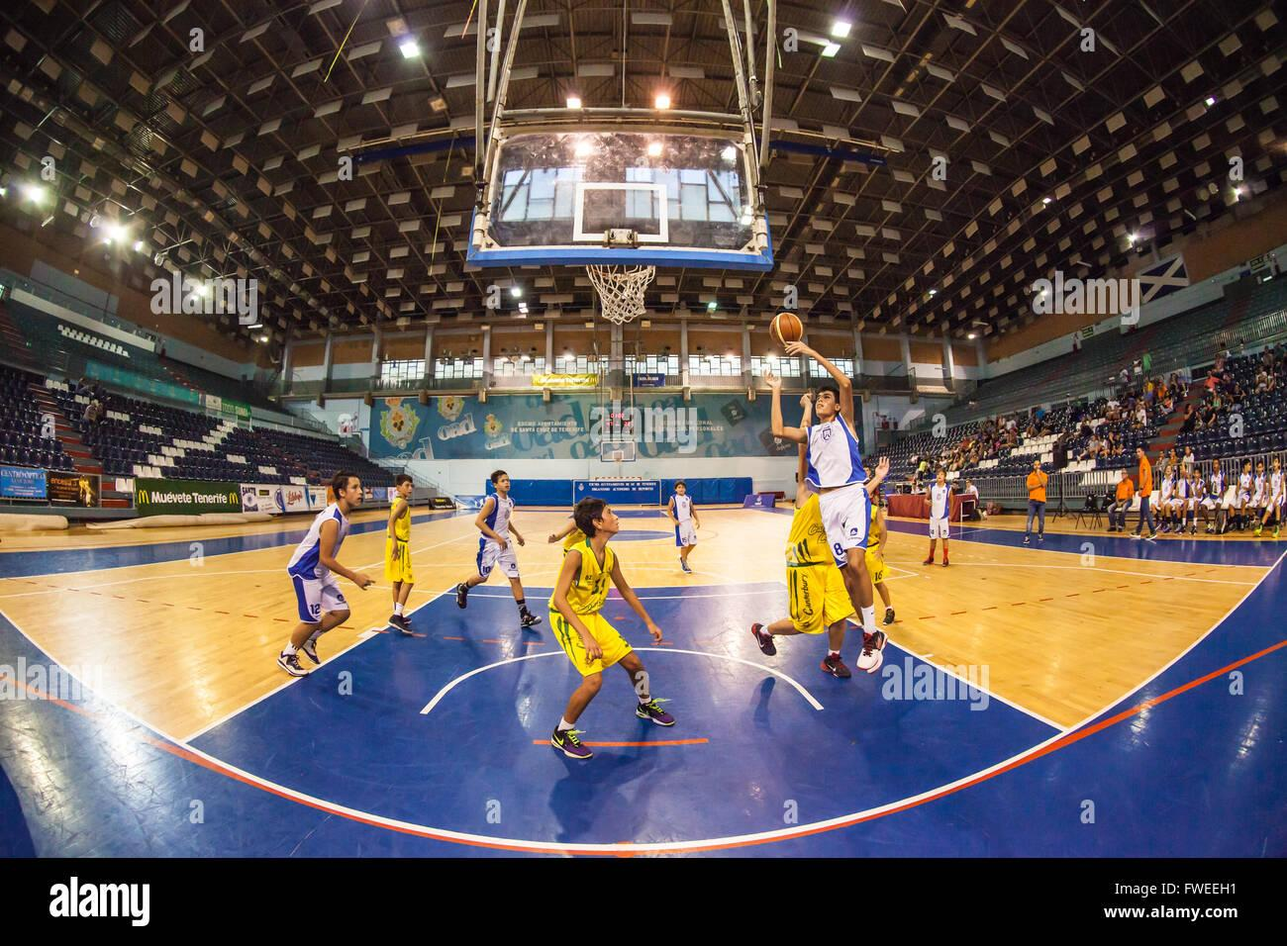basketball: (771, 305, 806, 351)
